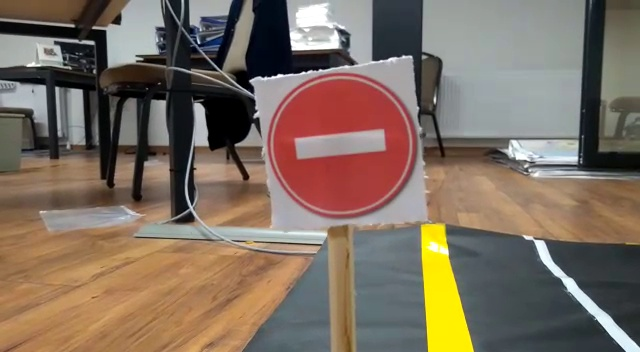girisi_olmayan_yol: (256, 67, 420, 232)
